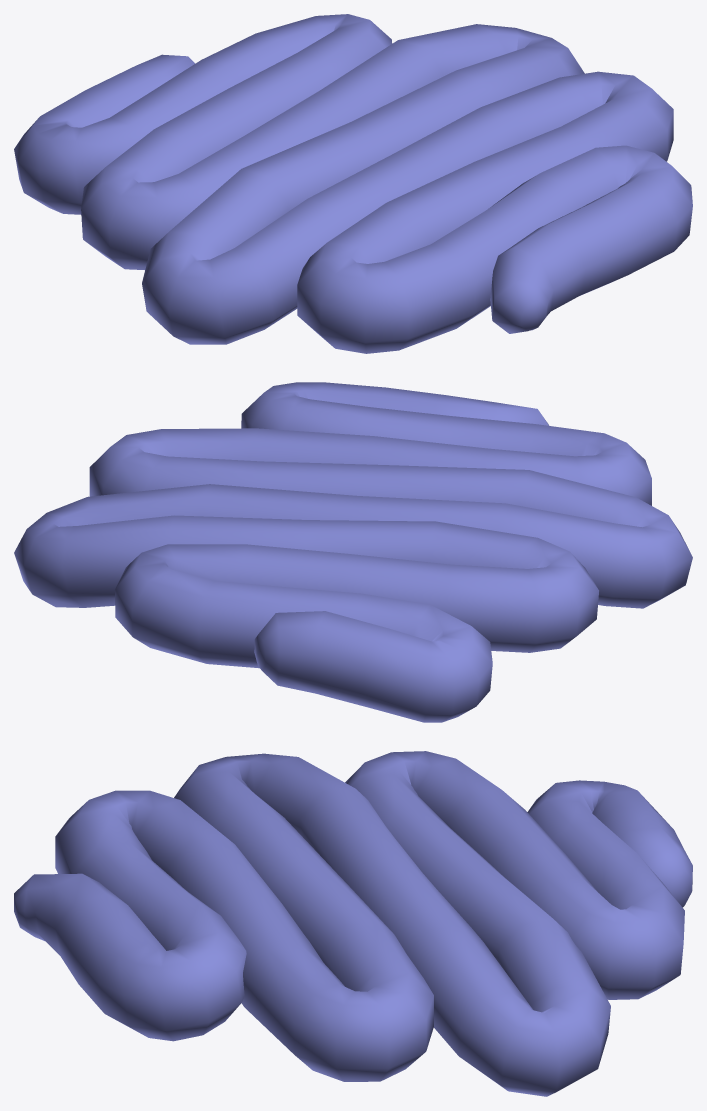
Rendered from candy_assets56.fbx.
3 renders of one model, top to bottom at view 1: azimuth 30°, elevation 25°; view 2: azimuth 150°, elevation 25°; view 3: azimuth 270°, elevation 25°, orthographic. The views are drawn at different scales.
Visible parts, largest first — view 1: candy_assets56; view 2: candy_assets56; view 3: candy_assets56.
Part boxes in pixels (bbox=[...]): candy_assets56: bbox=[14, 14, 692, 353]; candy_assets56: bbox=[14, 382, 692, 722]; candy_assets56: bbox=[14, 751, 692, 1096].
Bounding box in the file's own units: 447 × 85.78 × 456.
1 material, 1 textured.
